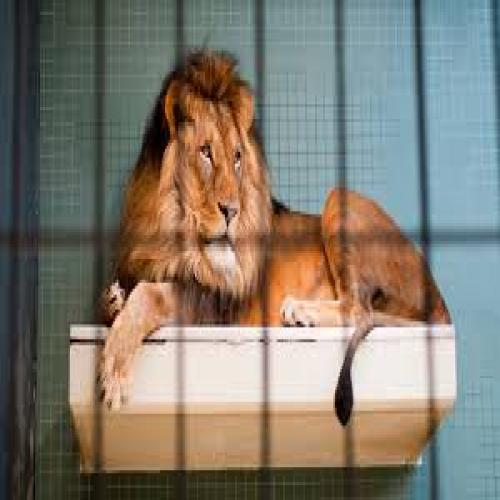lion-endangered: (95, 47, 452, 425)
